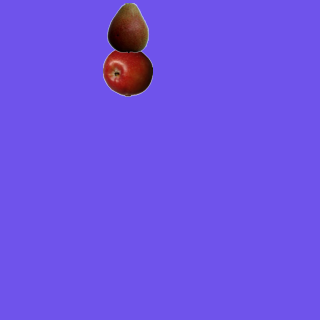Apple Braeburn: (102, 46, 152, 96)
Pear Forelle: (102, 2, 152, 52)
